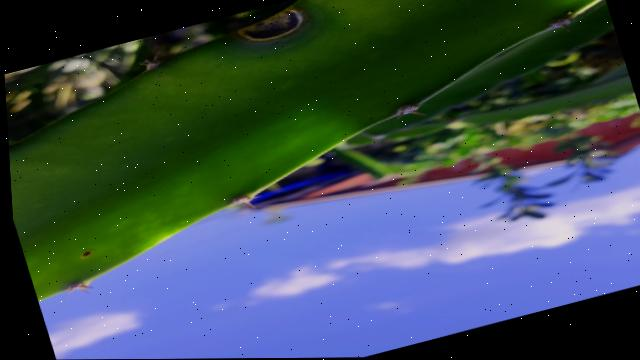stemcanker: (73, 244, 95, 264)
